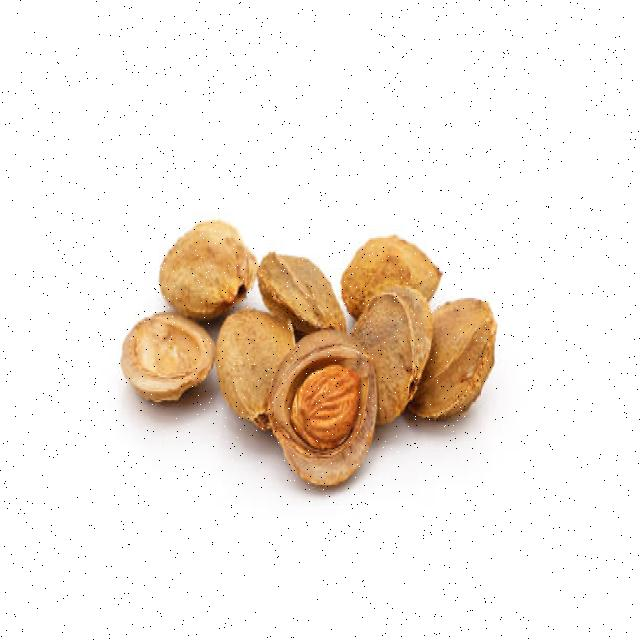cekirdek: (290, 360, 374, 482), (368, 274, 431, 412), (132, 304, 196, 422), (269, 242, 342, 342), (166, 219, 244, 307), (348, 225, 421, 308), (228, 334, 284, 428), (438, 309, 486, 415)
